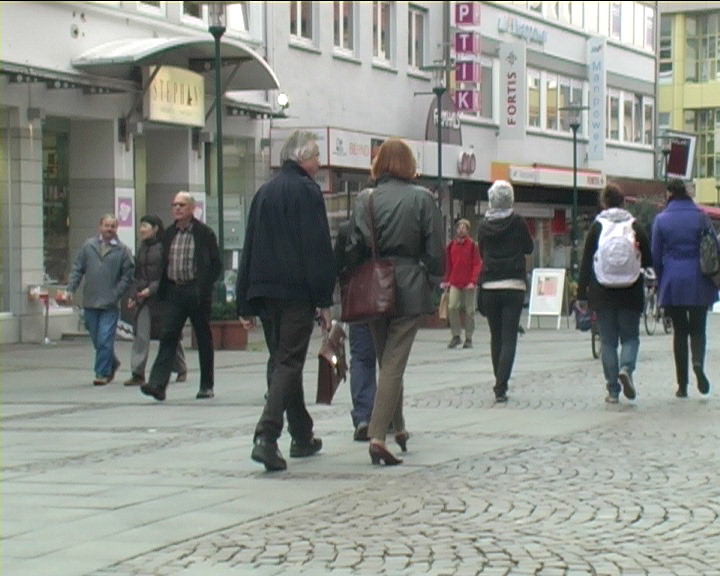undeflect: (358, 144, 440, 227), (154, 187, 211, 246)
